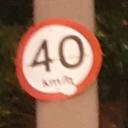speed_limit_40: (15, 18, 103, 101)
